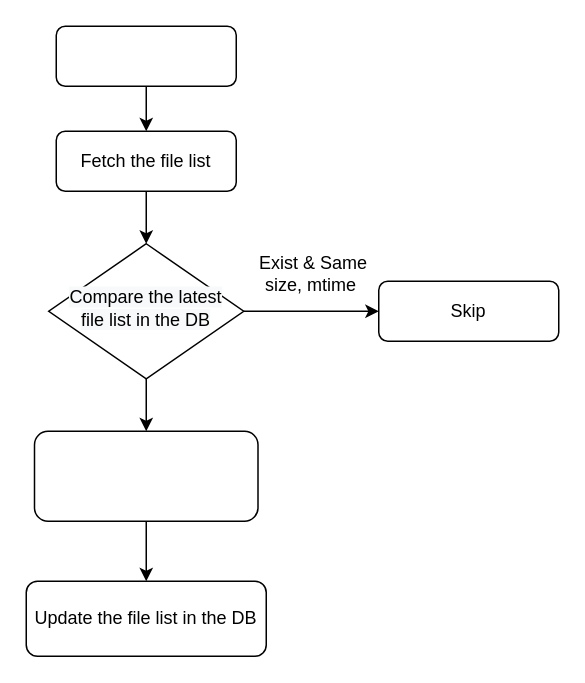
This 585x683 diagram has some shape labels left out. The shapes that lost their labels are listed below. From the top down, each one's box as (x1, y1, x2, y2) in pixels, then its label:
(55, 25, 236, 86): Handshake
(33, 430, 258, 521): Download the files, upload them to the object storage
